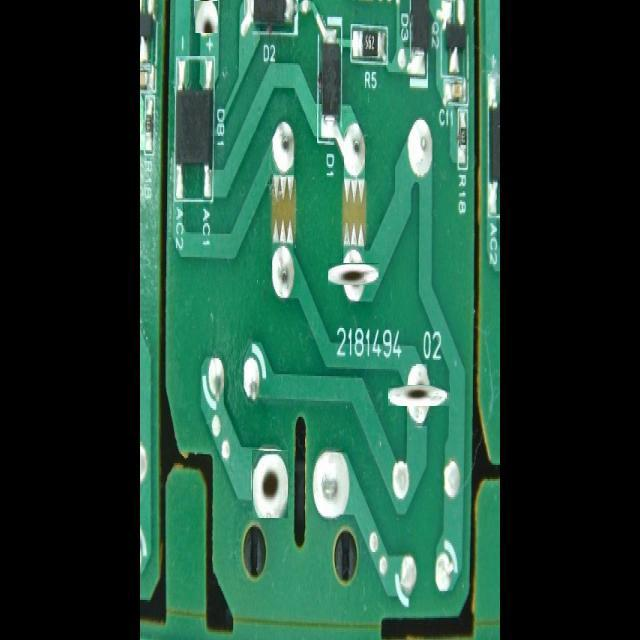damged: (252, 450, 288, 518), (398, 374, 440, 416), (334, 255, 372, 292), (194, 0, 218, 33)
